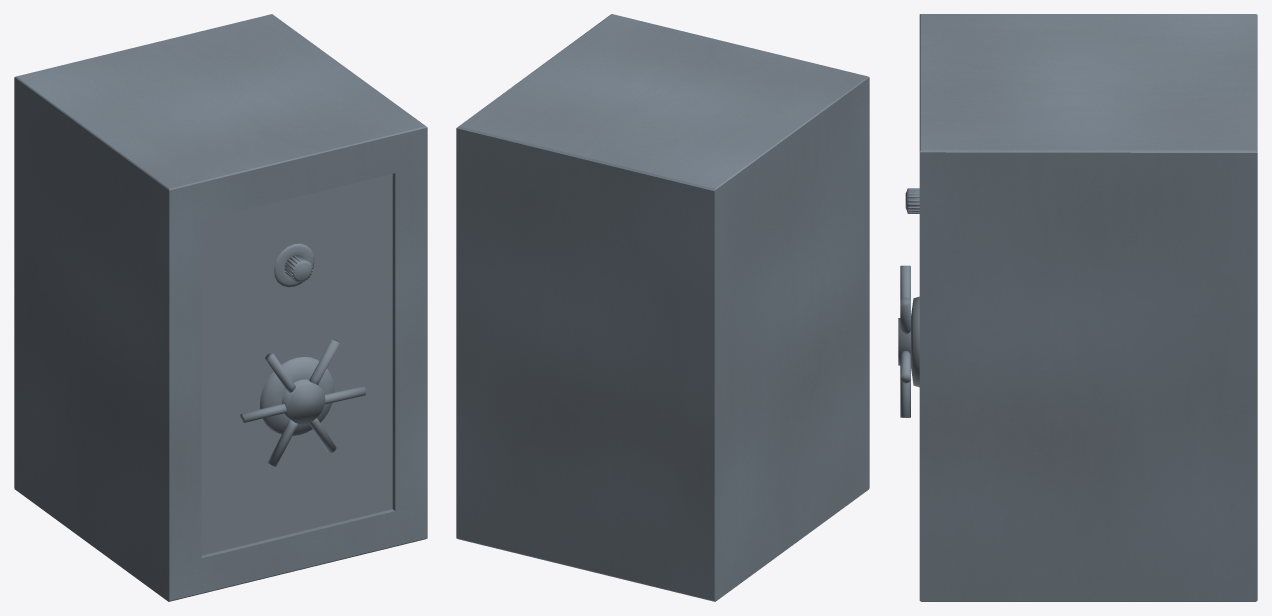
File: Safe.fbx
3 renders of one model, left to right at view 1: azimuth 30°, elevation 25°; view 2: azimuth 150°, elevation 25°; view 3: azimuth 270°, elevation 25°, orthographic. The views are drawn at different scales.
Parts seen in each view (by area): view 1: Cube.001; view 2: Cube.001; view 3: Cube.001.
Part boxes in pixels (x1,y1,x2,y2): Cube.001: (14, 14, 427, 601); Cube.001: (456, 14, 869, 601); Cube.001: (898, 14, 1257, 601).
Size of the model in its own units: 506 by 773 by 558.
